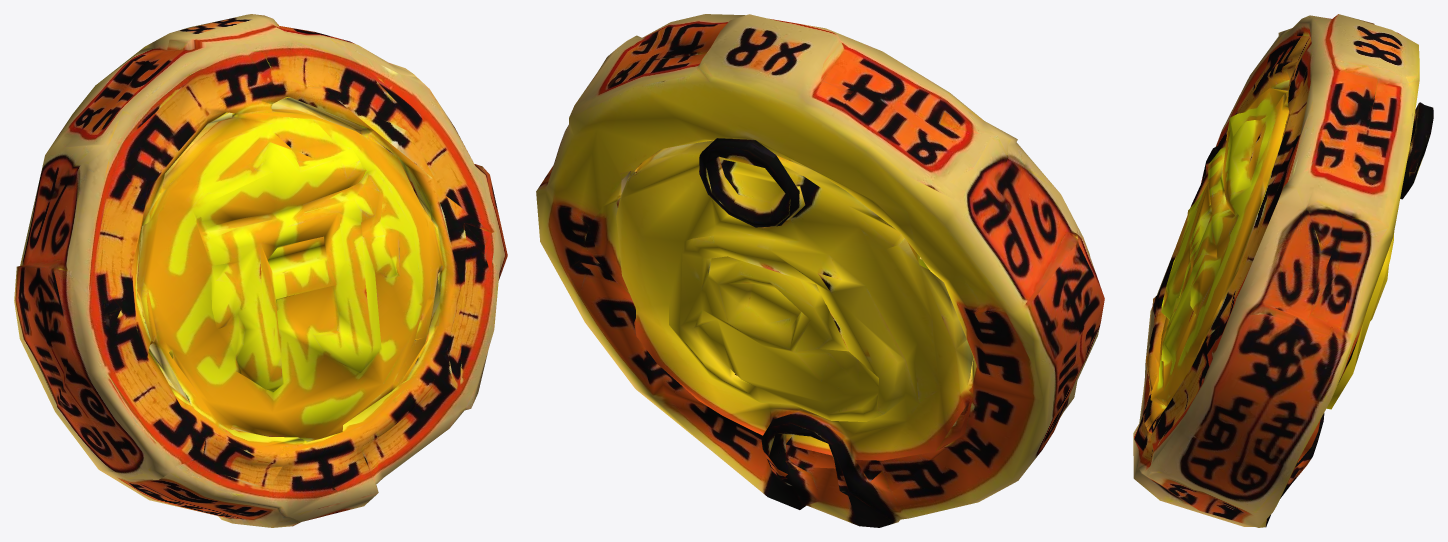
Rendered from hex-coin.glb.
3 views of the same model, side by side, from view 1: azimuth 30°, elevation 25°; view 2: azimuth 150°, elevation 25°; view 3: azimuth 270°, elevation 25° (orthographic). The views are drawn at different scales.
Size of the model in its own units: 1.9 by 1.88 by 1.08.
1 material, 1 textured.
